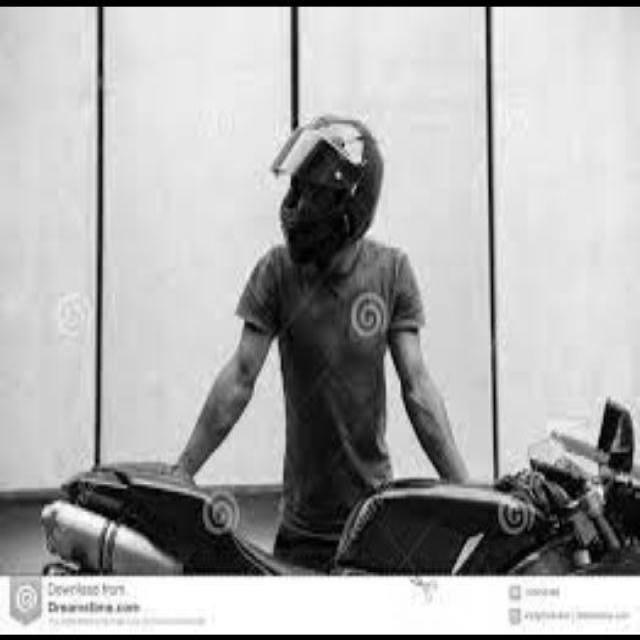5_casco: (270, 114, 385, 266)
